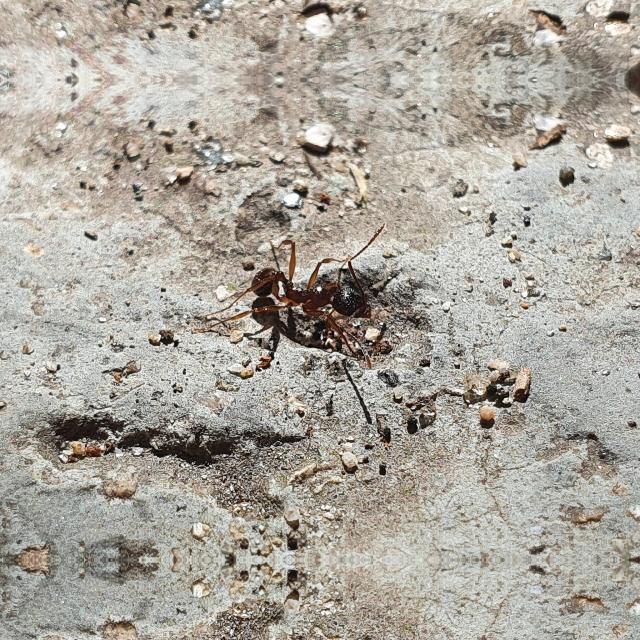Apheanogaster: (230, 249, 384, 333)
